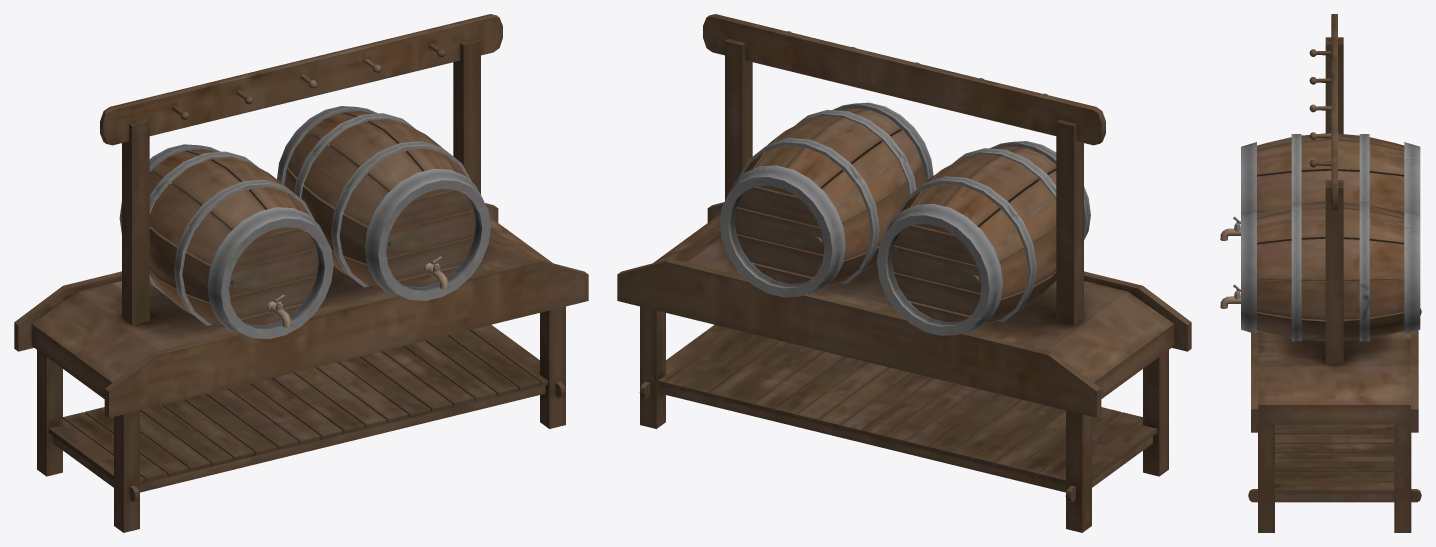
File: SM_support_cask_548da3.glb
3 views of the same model, side by side, from view 1: azimuth 30°, elevation 25°; view 2: azimuth 150°, elevation 25°; view 3: azimuth 270°, elevation 25° (orthographic). The views are drawn at different scales.
Bounding box in the file's own units: 2.99 × 2.3 × 1.23.
2 materials, 2 textured.
